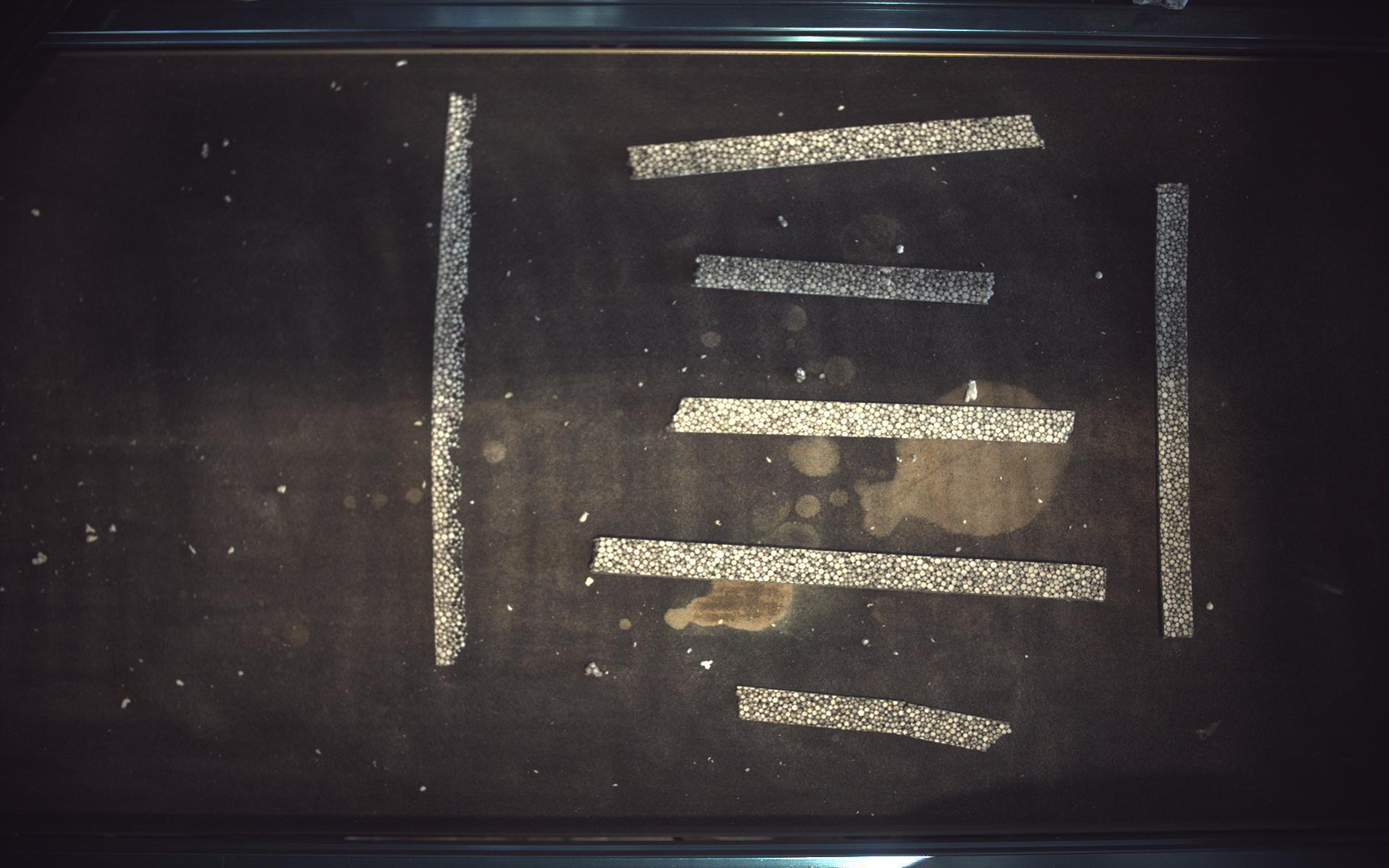foam: (592, 537, 1108, 602), (629, 114, 1046, 179), (430, 92, 476, 668), (672, 397, 1077, 443), (738, 687, 1013, 752), (1158, 182, 1197, 639), (697, 254, 996, 304)
